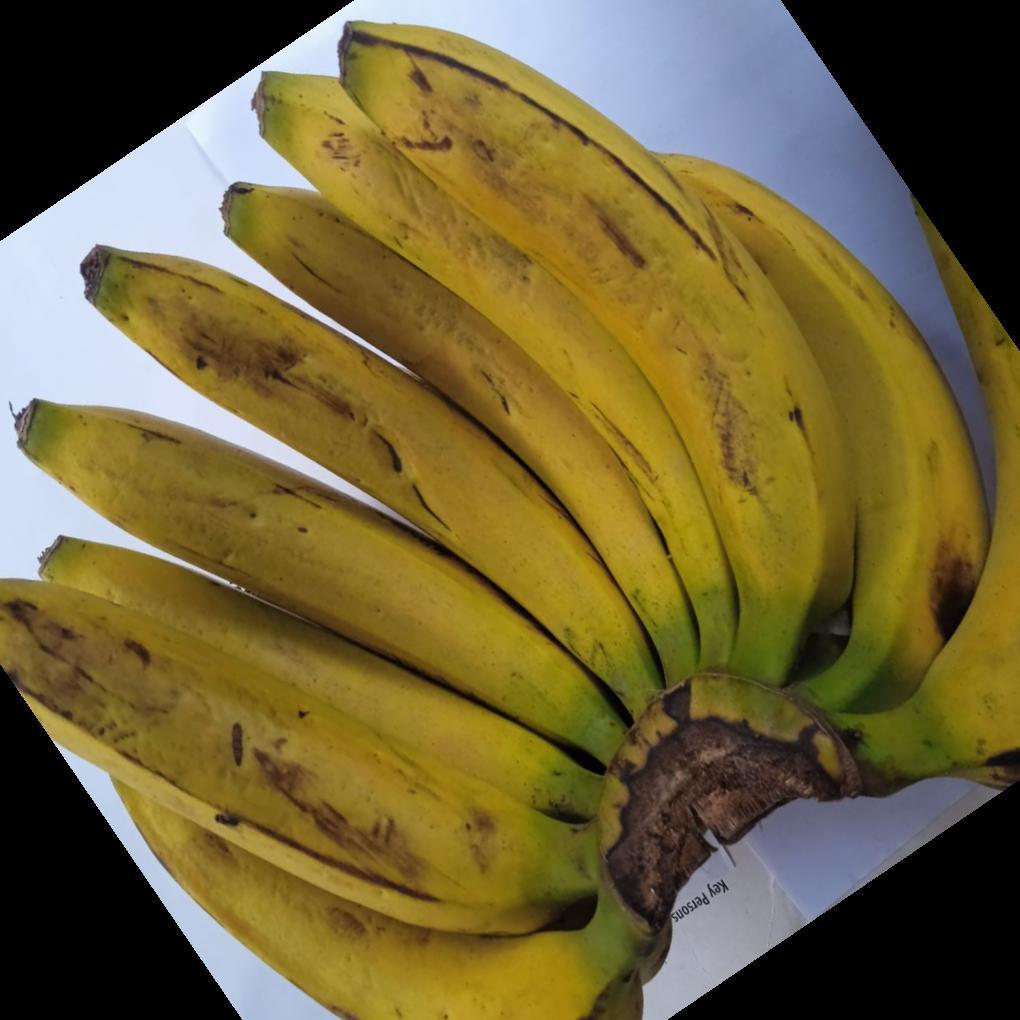Banana Ripe: (0, 190, 723, 1020), (382, 20, 899, 754), (635, 73, 1020, 784)
